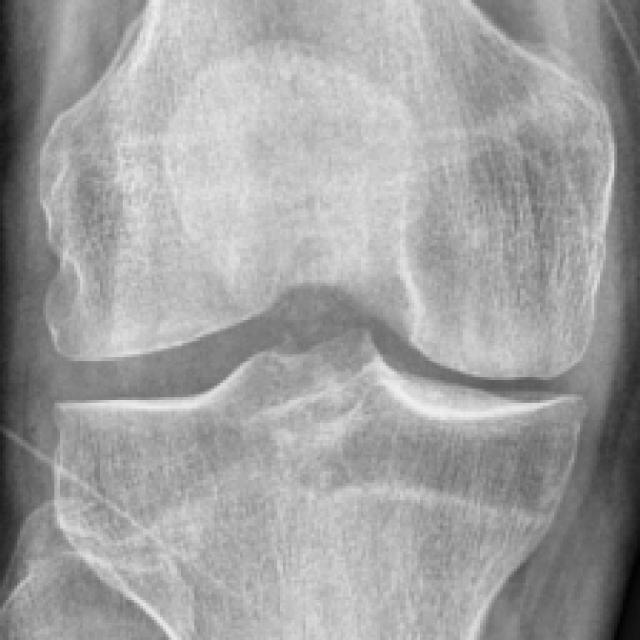femur: (40, 0, 615, 379)
tibia: (50, 331, 580, 640)
